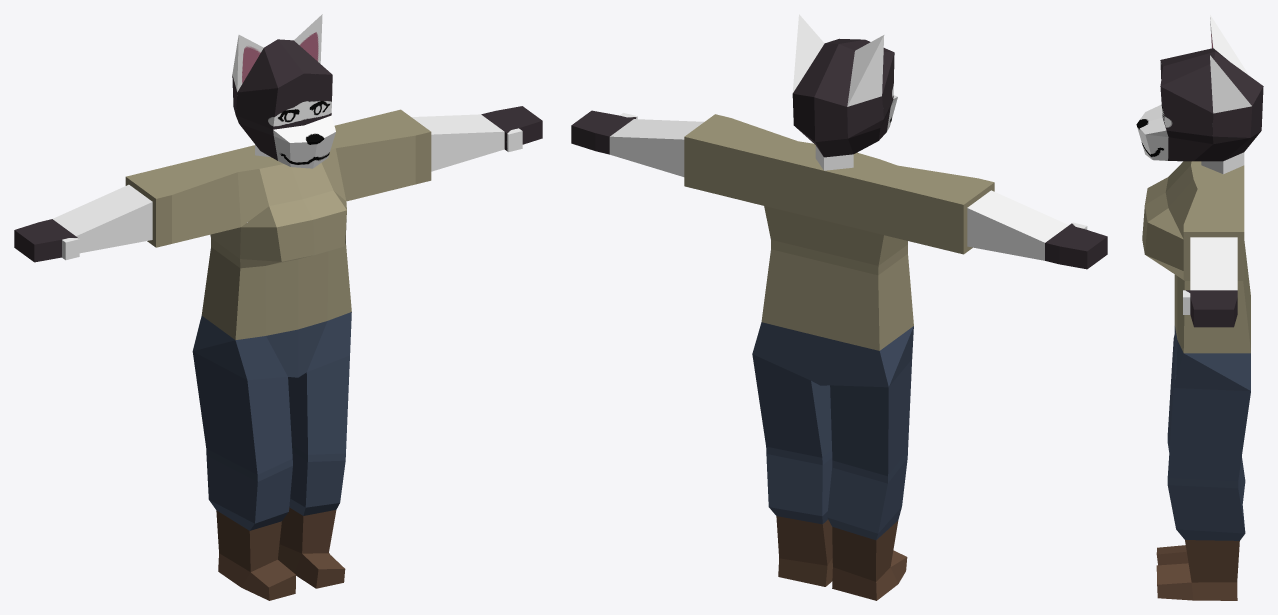
Rendered from mercenary.fbx.
3 renders of one model, left to right at view 1: azimuth 30°, elevation 25°; view 2: azimuth 150°, elevation 25°; view 3: azimuth 270°, elevation 25°, orthographic. The views are drawn at different scales.
Visible parts, largest first — view 1: Cube; view 2: Cube; view 3: Cube.
Boxes of the visible parts, x1,y1,x2,y2 form: Cube: [14, 14, 542, 600]; Cube: [571, 14, 1107, 600]; Cube: [1136, 15, 1263, 600].
Size of the model in its own units: 165 by 171 by 35.99.
